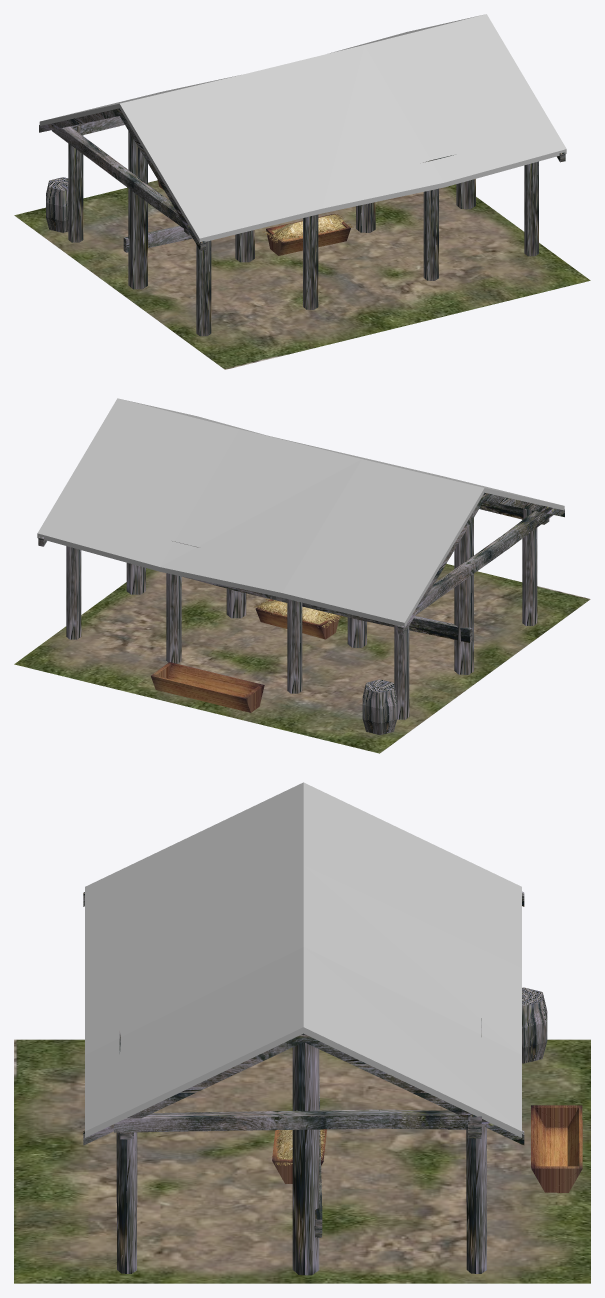
Rendered from CattleStallLoPoly.obj.
3 views of the same model, one above another, from view 1: azimuth 30°, elevation 25°; view 2: azimuth 150°, elevation 25°; view 3: azimuth 270°, elevation 25° (orthographic). The views are drawn at different scales.
Visible parts, largest first — view 1: roof, mudgrass, fadewood, floor, straw; view 2: roof, mudgrass, fadewood, floor, straw; view 3: roof, mudgrass, fadewood, floor, straw.
Boxes of the visible parts, <box> form: roof: <box>39,14,566,243</box>; mudgrass: <box>14,180,590,369</box>; fadewood: <box>39,108,565,336</box>; floor: <box>158,180,350,255</box>; straw: <box>262,214,353,243</box>; roof: <box>37,398,564,627</box>; mudgrass: <box>14,564,590,753</box>; fadewood: <box>38,492,564,734</box>; floor: <box>151,599,339,712</box>; straw: <box>253,599,343,627</box>; roof: <box>85,782,521,1137</box>; mudgrass: <box>14,1039,590,1283</box>; fadewood: <box>83,891,547,1275</box>; floor: <box>272,1105,582,1192</box>; straw: <box>275,1129,326,1165</box>.
Size of the model in its own units: 76.41 by 37.65 by 76.
